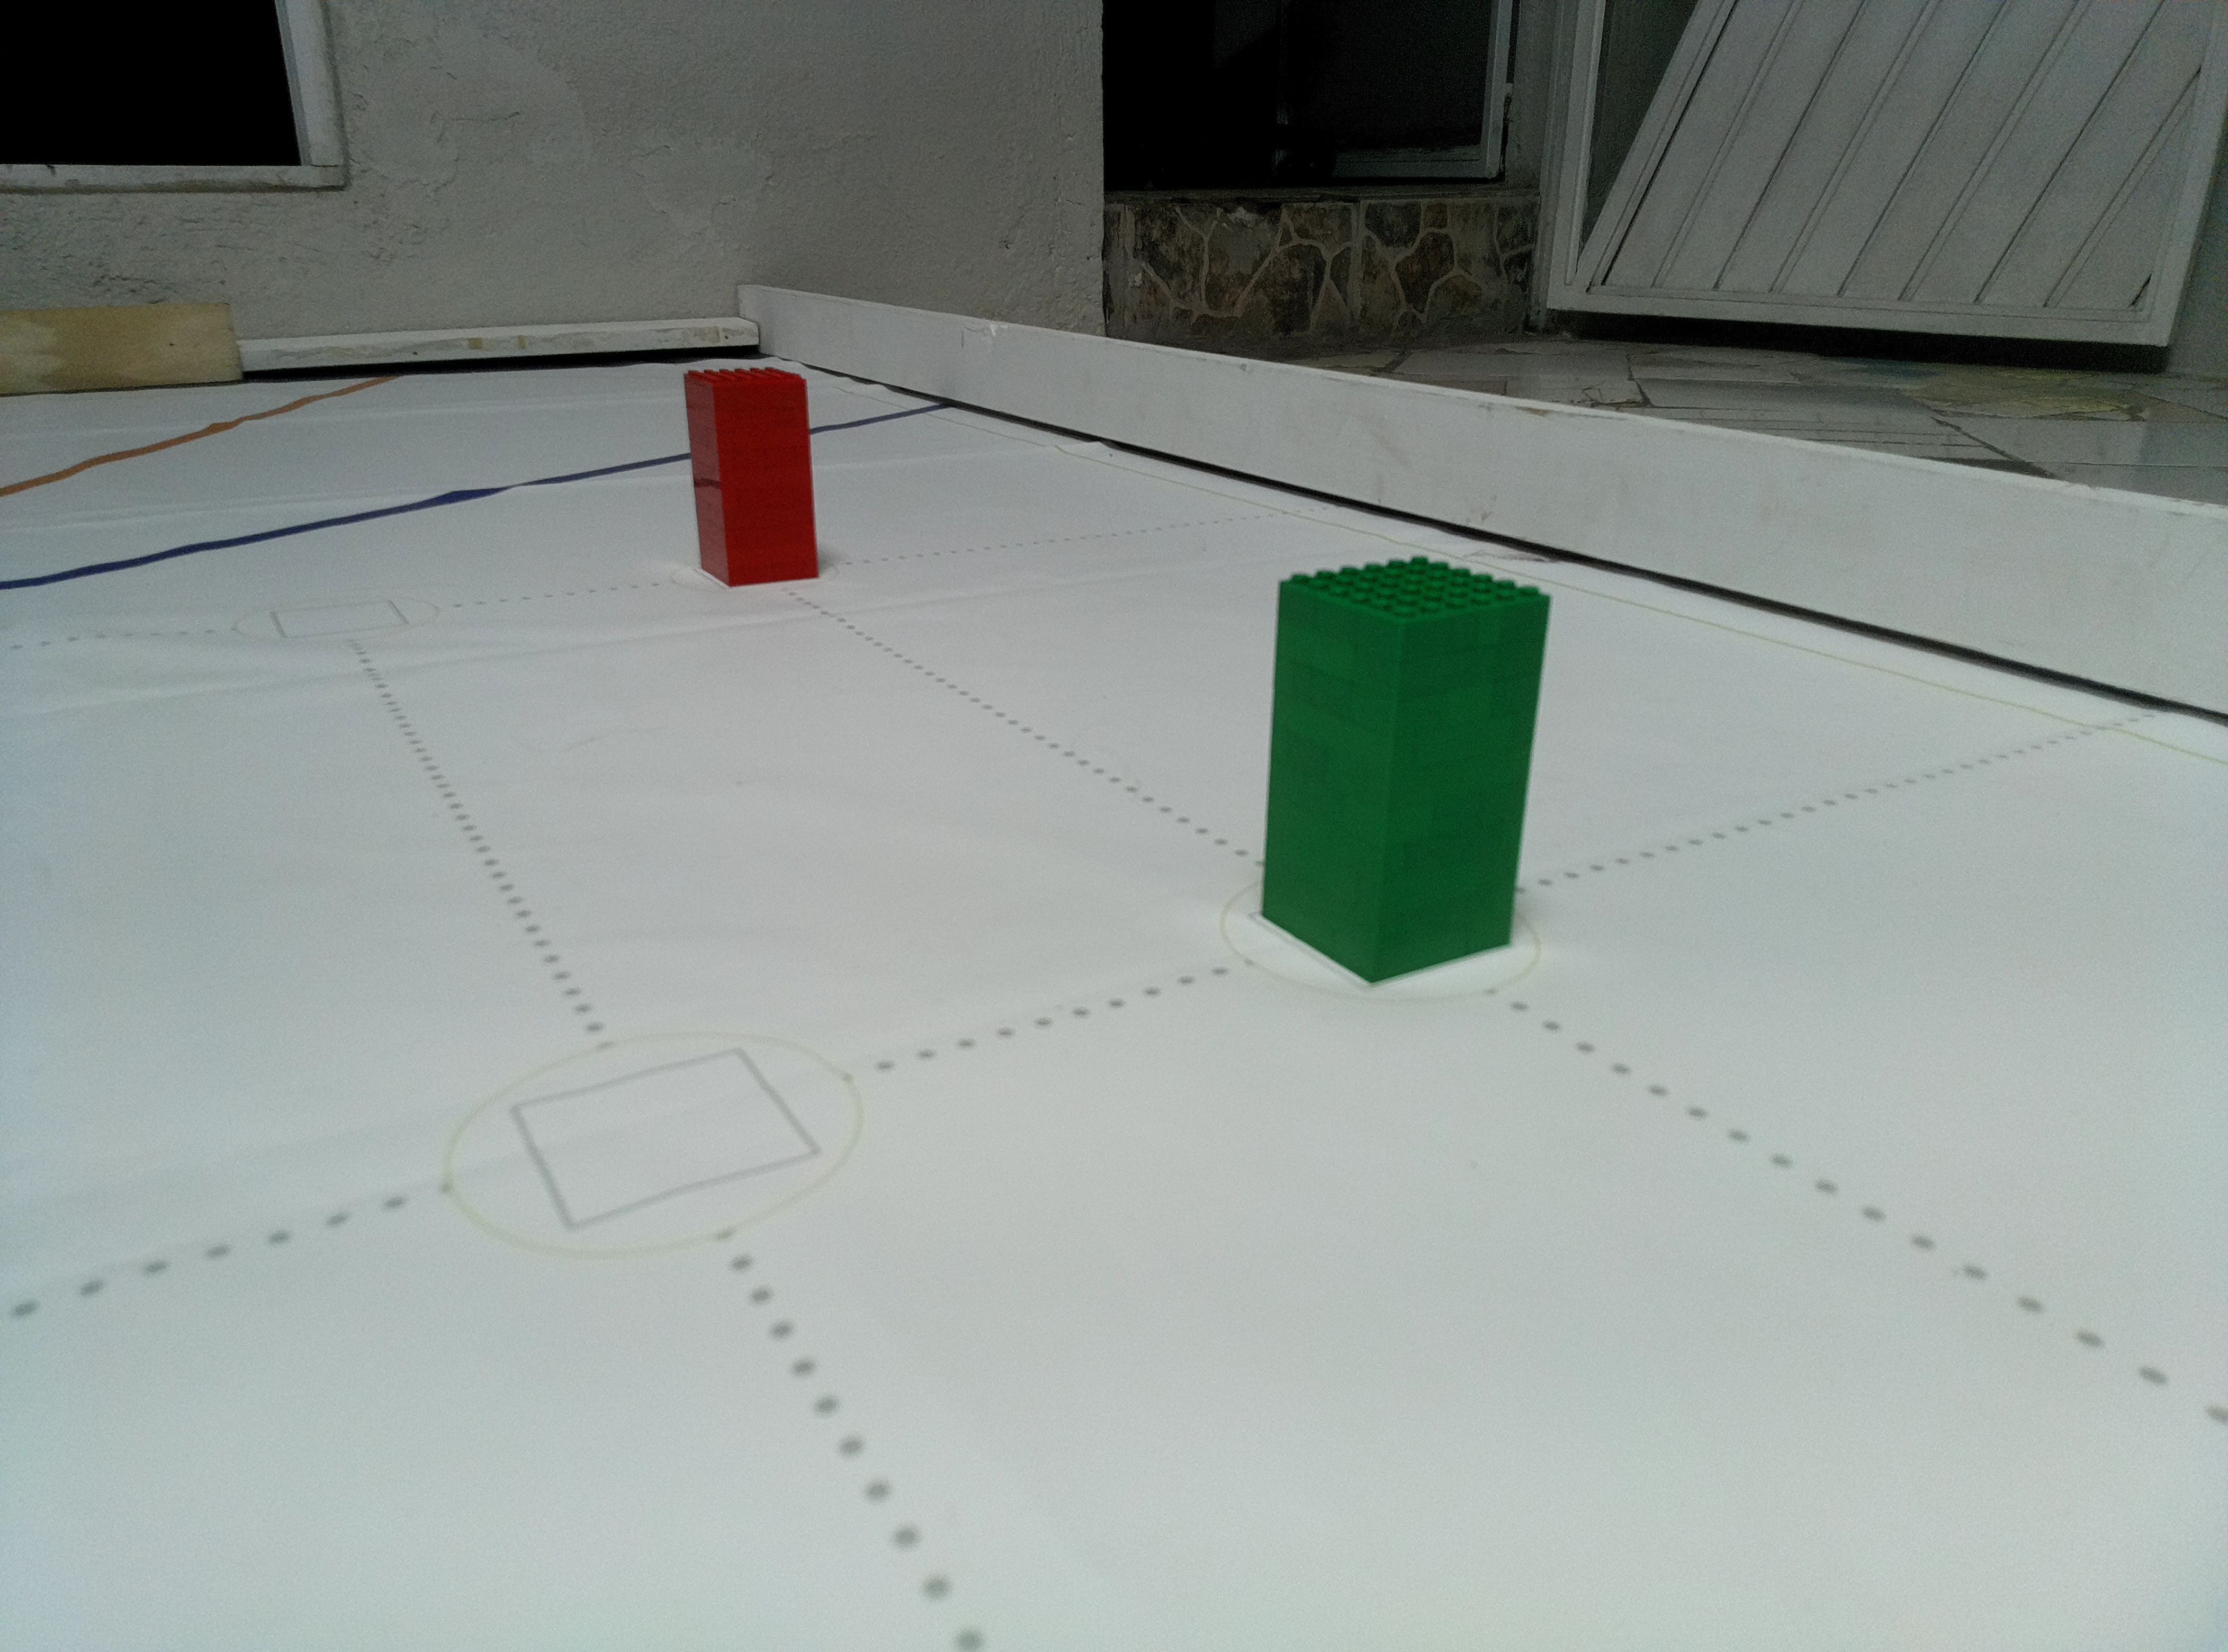greenbox: (1256, 554, 1562, 994)
redbox: (680, 364, 822, 592)
